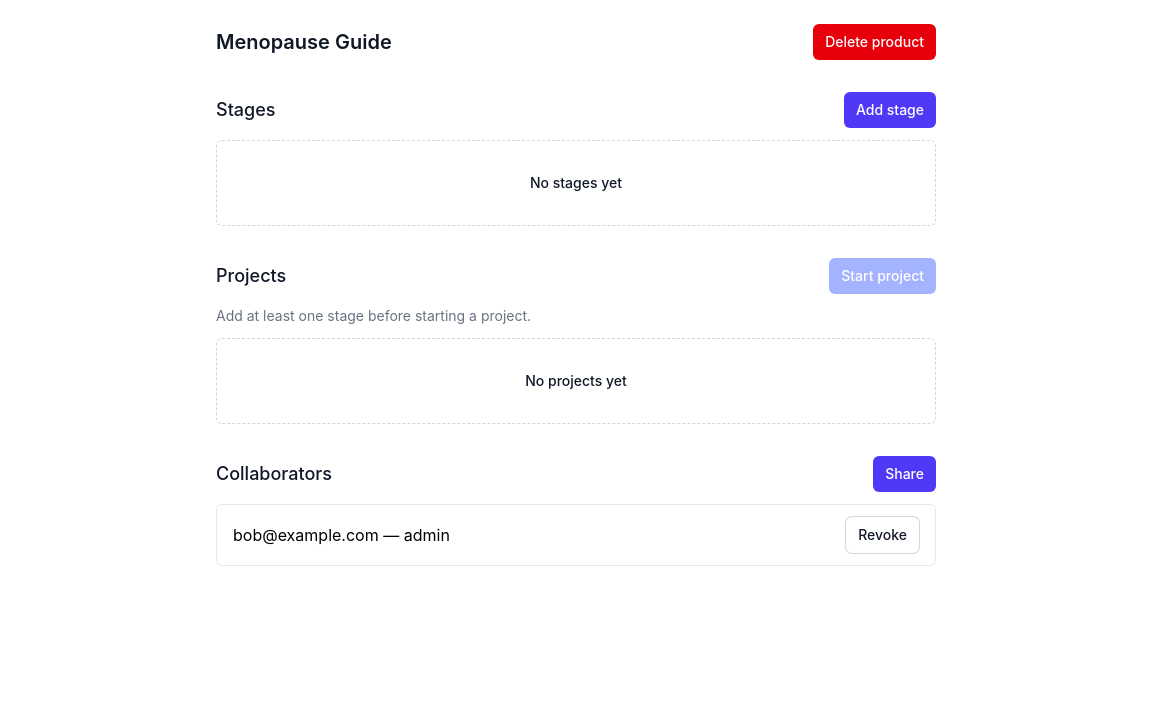
Test: ProductDetailPage › lists collaborators with access level and shows an error sharing with an unregistered email (FR-15, FR-16, Scenario 11)
Expected: the text "bob@example.com — admin" is shown, [233,523,450,547]
Step 1. Click the button "Share" → x=905, y=474, box [873,456,936,492]
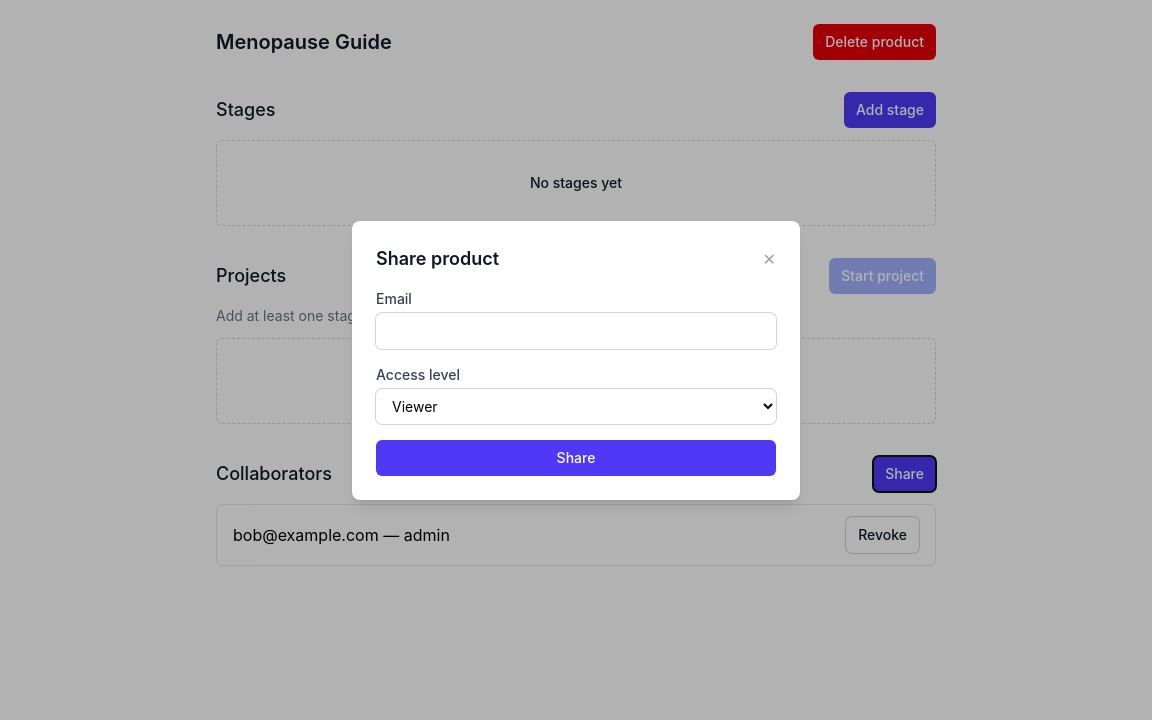
Step 2. Type "nobody@example.com" into the field labelled "Email" → x=576, y=330, box [376,312,776,348]
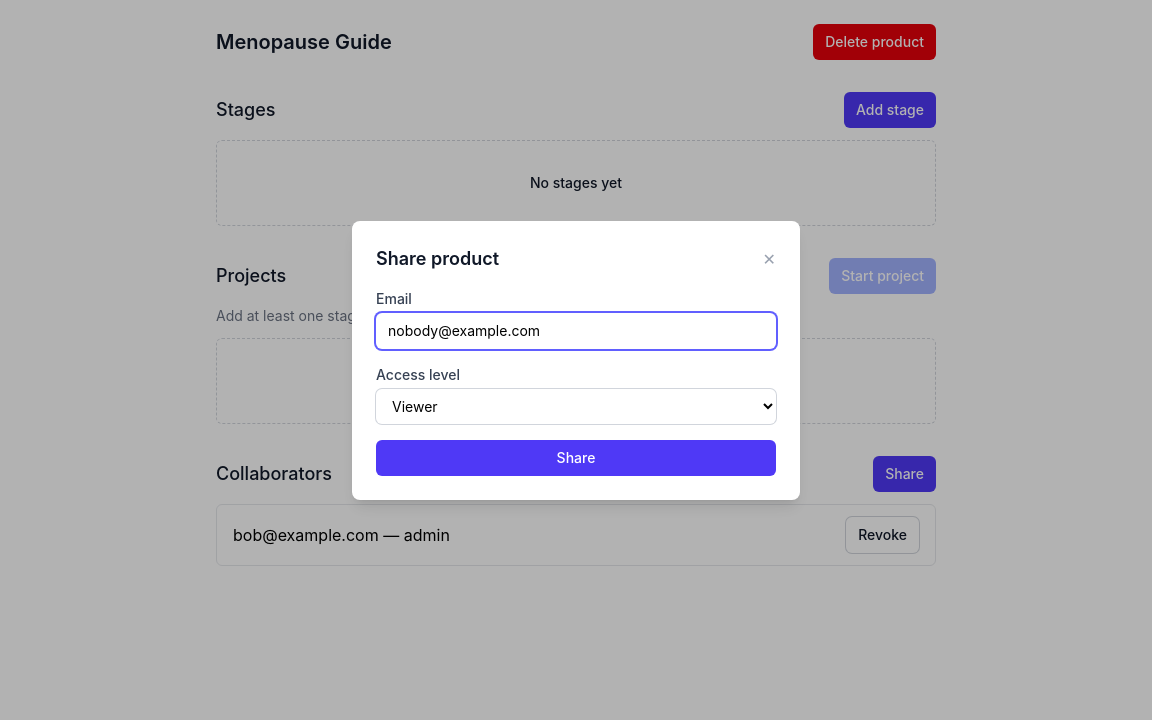
Step 3. Click the button "Share" → x=576, y=458, box [376,440,776,476]
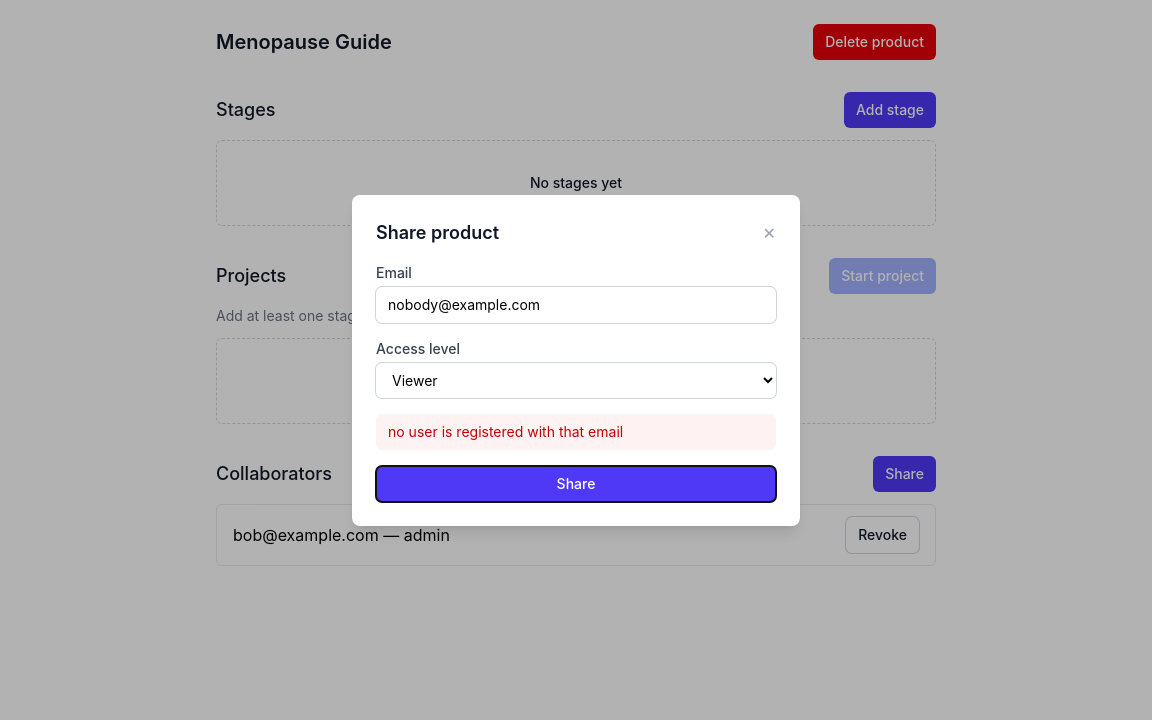
Expected: the text "no user is registered with that email" is shown, [376,414,776,450]
